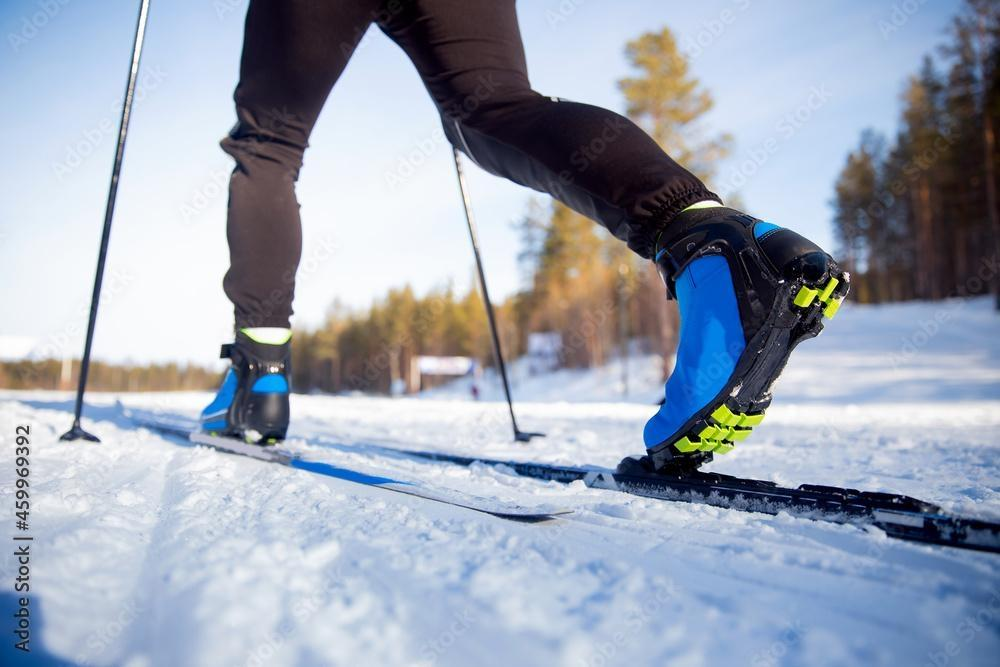Skis: (40, 338, 990, 552)
